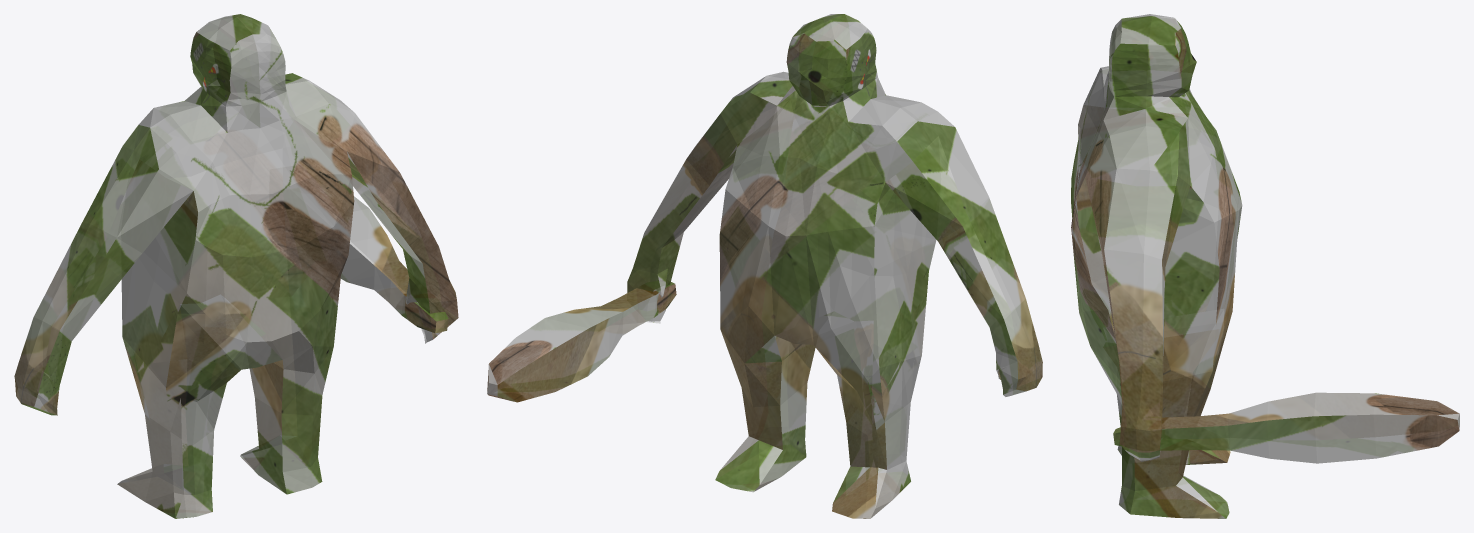
The model's file is Enemigo230.obj.
3 renders of one model, left to right at view 1: azimuth 30°, elevation 25°; view 2: azimuth 150°, elevation 25°; view 3: azimuth 270°, elevation 25°, orthographic. The views are drawn at different scales.
Visible parts, largest first — view 1: Cube; view 2: Cube; view 3: Cube.
Part boxes in pixels (x1,y1,x2,y2): Cube: [14, 14, 458, 518]; Cube: [487, 14, 1042, 518]; Cube: [1071, 14, 1459, 518].
Bounding box in the file's own units: 2.55 × 2.71 × 2.04.
1 material, 1 textured.
